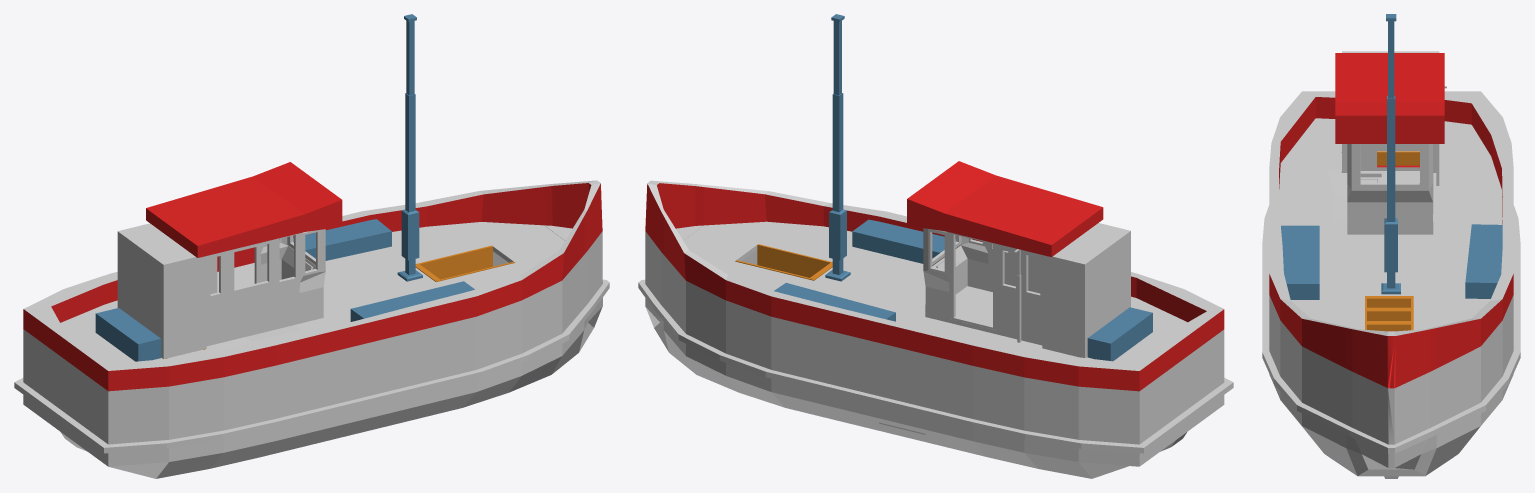
File: Fiskerbåd_Færdig_Test_2.fbx
3 renders of one model, left to right at view 1: azimuth 30°, elevation 25°; view 2: azimuth 150°, elevation 25°; view 3: azimuth 270°, elevation 25°, orthographic. The views are drawn at different scales.
Parts seen in each view (by area): view 1: Fiskerbåd; view 2: Fiskerbåd; view 3: Fiskerbåd.
Boxes of the visible parts, x1,y1,x2,y2 form: Fiskerbåd: (14,14,609,478); Fiskerbåd: (638,14,1233,478); Fiskerbåd: (1262,14,1520,478).
Size of the model in its own units: 1223 by 793 by 473.
